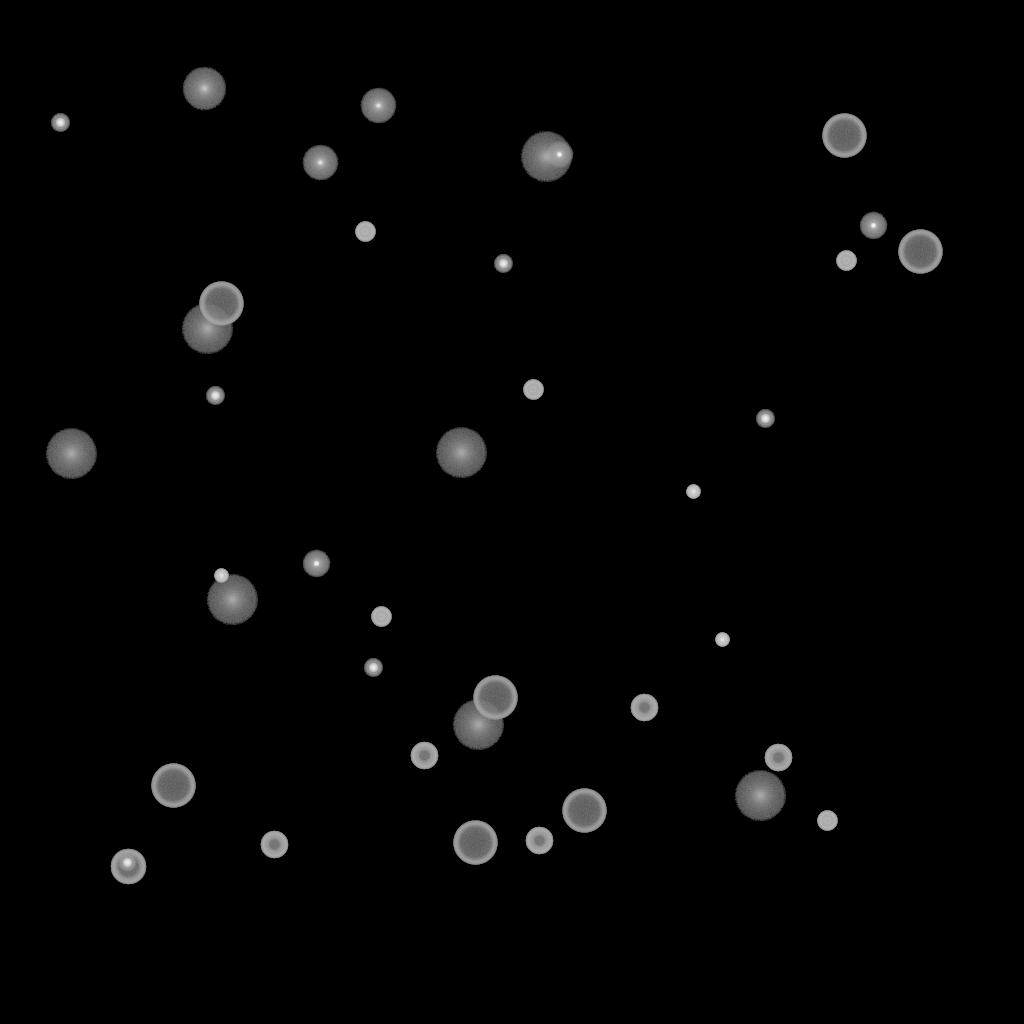depth:-10: (302, 550, 330, 578), (545, 141, 573, 169), (859, 212, 887, 240)
depth:-20: (756, 410, 774, 428), (364, 659, 382, 677), (206, 387, 224, 405), (118, 854, 136, 872), (51, 114, 69, 132), (494, 255, 512, 273)
depth:-30: (686, 485, 700, 499), (214, 569, 228, 583), (715, 633, 729, 647)
depth:-40: (817, 811, 837, 831), (523, 380, 543, 400), (836, 251, 856, 271), (371, 607, 391, 627), (355, 222, 375, 242)
depth:-50: (764, 744, 792, 772), (260, 831, 288, 859), (630, 694, 658, 722), (410, 742, 438, 770), (525, 827, 553, 855)
depth:-60: (110, 849, 146, 885)
depth:-70: (453, 821, 497, 865), (822, 114, 866, 158), (562, 789, 606, 833), (473, 676, 517, 720), (199, 282, 243, 326), (898, 230, 942, 274), (151, 764, 195, 808)
depth:0: (302, 145, 338, 181), (360, 88, 396, 124)
depth:10: (182, 67, 226, 111)
depth:20: (734, 771, 786, 821), (181, 304, 233, 354), (435, 428, 487, 478), (520, 132, 572, 182), (206, 575, 258, 625), (452, 700, 504, 750), (45, 429, 97, 479)
